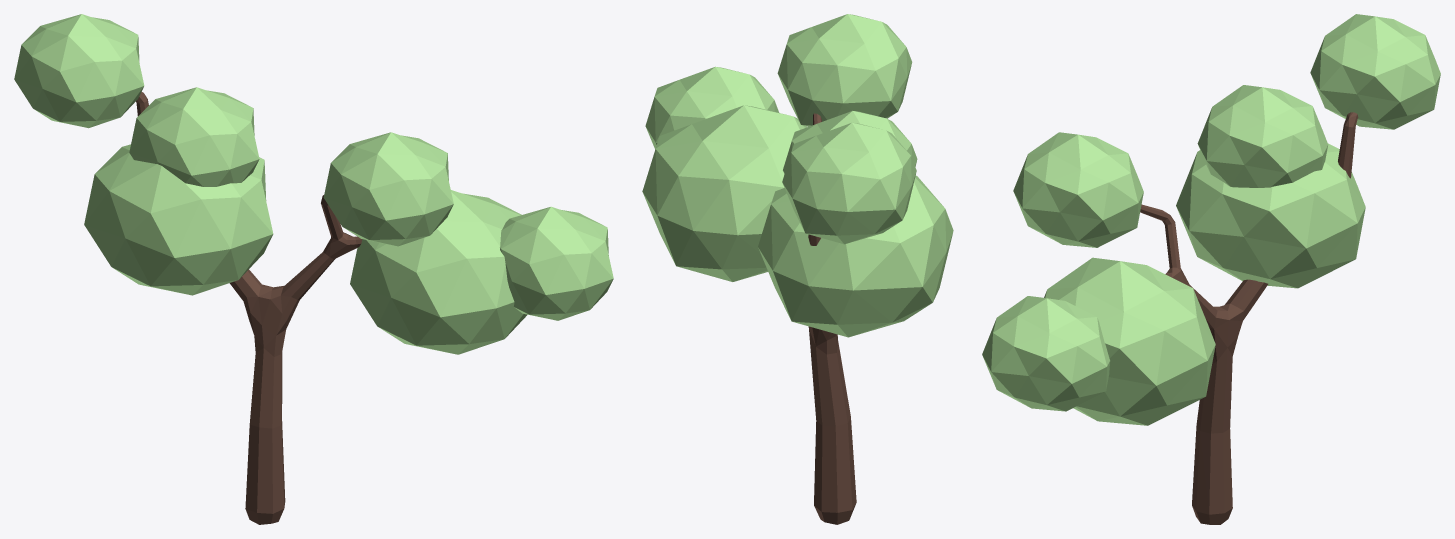
The model's file is tree.fbx.
3 renders of one model, left to right at view 1: azimuth 30°, elevation 25°; view 2: azimuth 150°, elevation 25°; view 3: azimuth 270°, elevation 25°, orthographic. The views are drawn at different scales.
Visible parts, largest first — view 1: Icosphere.005; view 2: Icosphere.005; view 3: Icosphere.005.
Boxes of the visible parts, left/top/right/bottom form: Icosphere.005: left=14, top=14, right=613, bottom=524; Icosphere.005: left=642, top=14, right=953, bottom=524; Icosphere.005: left=982, top=14, right=1440, bottom=524.
Size of the model in its own units: 484 by 531 by 479.
